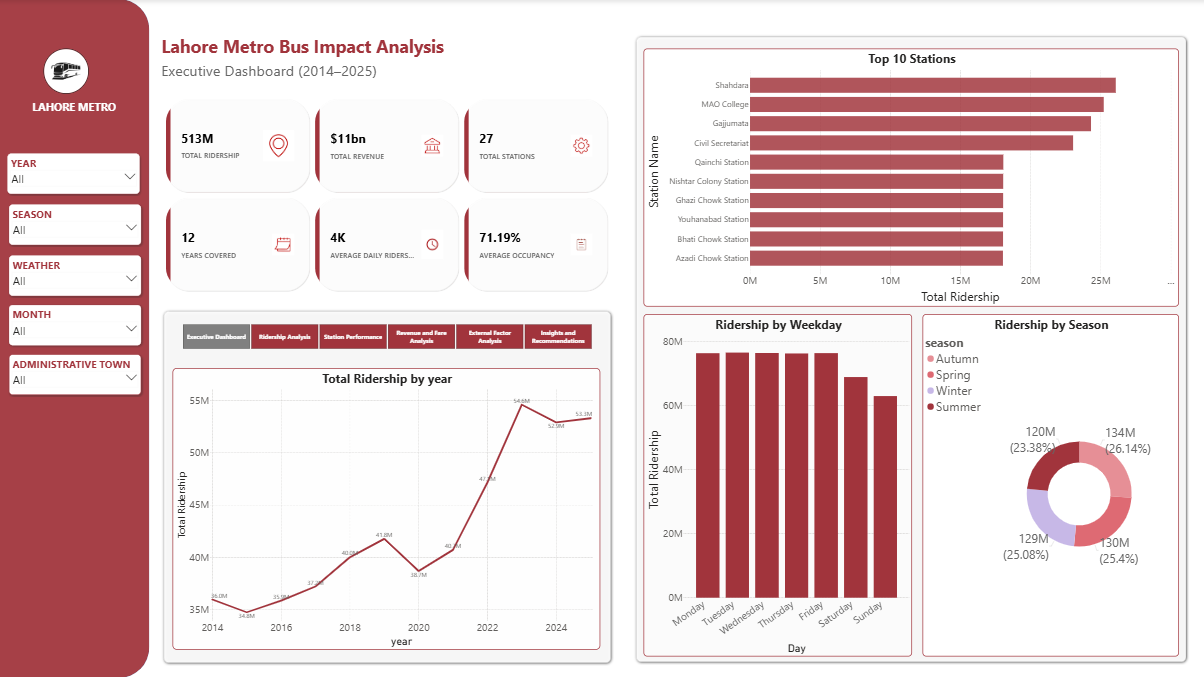

What the dashboard file says about the page in this screenshot:
{"tool":"powerbi","page":{"name":"Executive Dashboard","canvas":[8000,4500],"ordinal":0},"visuals":[{"type":"shape","box":[0,0,1010,4500],"z":0},{"type":"textbox","box":[225,660,610,174],"z":1000},{"type":"image","box":[305,325,300,300],"z":2000},{"type":"textbox","box":[1080,230,2030,490],"z":3000},{"type":"cardVisual","fields":{"Data":["lahore_metro_analysis ridership.Total Ridership","lahore_metro_analysis ridership.Total Revenue","lahore_metro_analysis ridership.Total Stations","lahore_metro_analysis ridership.Years Covered","lahore_metro_analysis ridership.Average Daily Ridership","lahore_metro_analysis ridership.Average Occupancy"]},"box":[1080,625,3000,2000],"z":4000},{"type":"shape","box":[1083.2,2044.6,3006.1,2373.2],"z":5000},{"type":"shape","box":[4211,231.2,3687.6,4186.6],"z":6000},{"type":"pageNavigator","box":[1230,2160,2710,160],"z":7000},{"type":"lineChart","title":"Total Ridership by year","fields":{"Y":["lahore_metro_analysis ridership.Total Ridership"],"Category":["lahore_metro_analysis ridership.year"]},"box":[1163.3,2444,2835,1867.2],"z":8000},{"type":"clusteredBarChart","title":"Top 10 Stations","fields":{"Category":["lahore_metro_analysis ridership.station_name"],"Y":["lahore_metro_analysis ridership.Total Ridership"]},"box":[4281.9,332.4,3548.7,1710.8],"z":9000},{"type":"clusteredColumnChart","title":"Ridership by Weekday","fields":{"Category":["lahore_metro_analysis ridership.day_name"],"Y":["lahore_metro_analysis ridership.Total Ridership"]},"box":[4280,2090,1780,2270],"z":10000},{"type":"donutChart","title":"Ridership by Season","fields":{"Category":["lahore_metro_analysis ridership.season"],"Y":["lahore_metro_analysis ridership.Total Ridership"]},"box":[6130,2090,1700,2270],"z":11000},{"type":"slicer","fields":{"Values":["lahore_metro_analysis ridership.year"]},"box":[65,1020,875,267.5],"z":12000},{"type":"slicer","fields":{"Values":["lahore_metro_analysis ridership.season"]},"box":[80,1360,875,267.5],"z":13000},{"type":"slicer","fields":{"Values":["lahore_metro_analysis ridership.month_name"]},"box":[80,2025,875,267.5],"z":14000},{"type":"slicer","fields":{"Values":["lahore_metro_analysis ridership.weather"]},"box":[80,1700,875,267.5],"z":15000},{"type":"slicer","fields":{"Values":["lahore_metro_analysis ridership.administrative_town"]},"box":[80,2357.5,875,267.5],"z":16000}]}

Visuals, with their boxes in screenshot pixels (x1, y1, x2, y2), scaled from the page's 8000x4500 canvas onto the 1204x677 screenshot:
shape: bbox=[0, 0, 152, 676]
textbox: bbox=[34, 99, 126, 125]
image: bbox=[46, 49, 91, 94]
textbox: bbox=[163, 35, 468, 108]
cardVisual - lahore_metro_analysis ridership.Total Ridership x lahore_metro_analysis ridership.Total Revenue: bbox=[163, 94, 614, 395]
shape: bbox=[163, 308, 615, 665]
shape: bbox=[634, 35, 1189, 665]
pageNavigator: bbox=[185, 325, 593, 349]
"Total Ridership by year" lineChart: bbox=[175, 368, 602, 649]
"Top 10 Stations" clusteredBarChart: bbox=[644, 50, 1179, 307]
"Ridership by Weekday" clusteredColumnChart: bbox=[644, 314, 912, 656]
"Ridership by Season" donutChart: bbox=[923, 314, 1178, 656]
slicer - lahore_metro_analysis ridership.year: bbox=[10, 153, 141, 194]
slicer - lahore_metro_analysis ridership.season: bbox=[12, 205, 144, 245]
slicer - lahore_metro_analysis ridership.month_name: bbox=[12, 305, 144, 345]
slicer - lahore_metro_analysis ridership.weather: bbox=[12, 256, 144, 296]
slicer - lahore_metro_analysis ridership.administrative_town: bbox=[12, 355, 144, 395]
